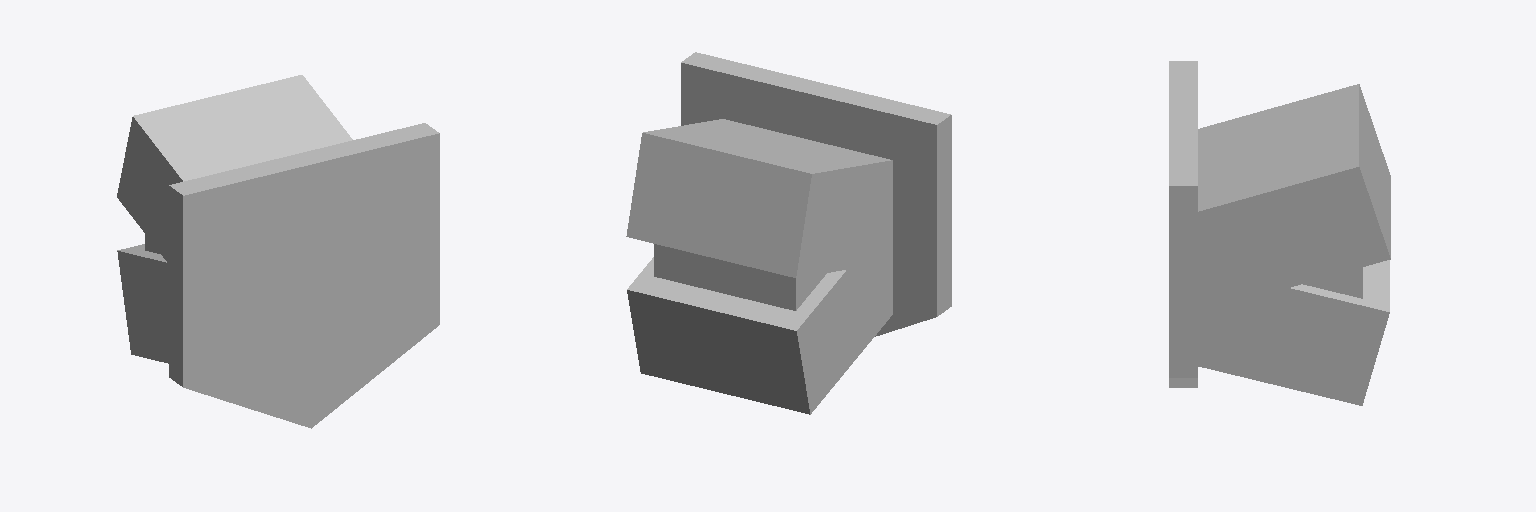
The model's file is mese_lord_tro.obj.
The picture shows the model from 3 angles: view 1: azimuth 30°, elevation 25°; view 2: azimuth 150°, elevation 25°; view 3: azimuth 270°, elevation 25°; orthographic projection.
Parts seen in each view (by area): view 1: Cube; view 2: Cube; view 3: Cube.
Part boxes in pixels (left/top/right/bottom): Cube: left=117, top=75, right=439, bottom=428; Cube: left=626, top=52, right=951, bottom=414; Cube: left=1169, top=61, right=1390, bottom=405.
Size of the model in its own units: 1.01 by 0.9925 by 0.756.